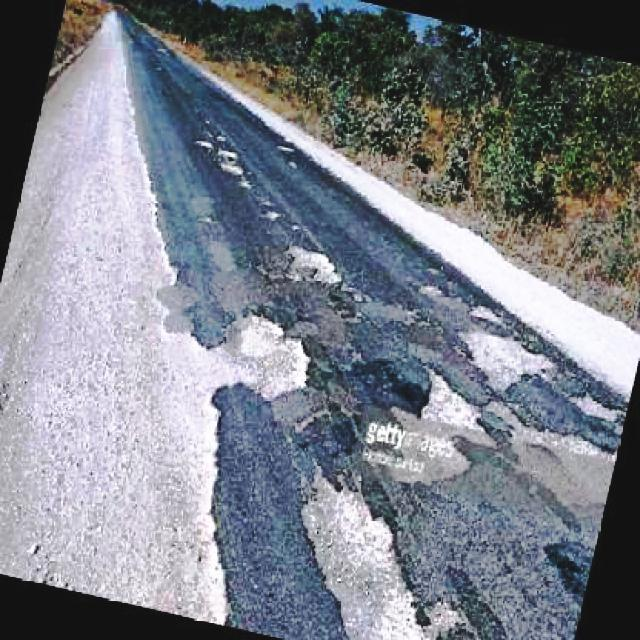pothole: (297, 466, 458, 640), (188, 309, 310, 397), (455, 325, 551, 389), (417, 364, 474, 430), (286, 238, 342, 291)
